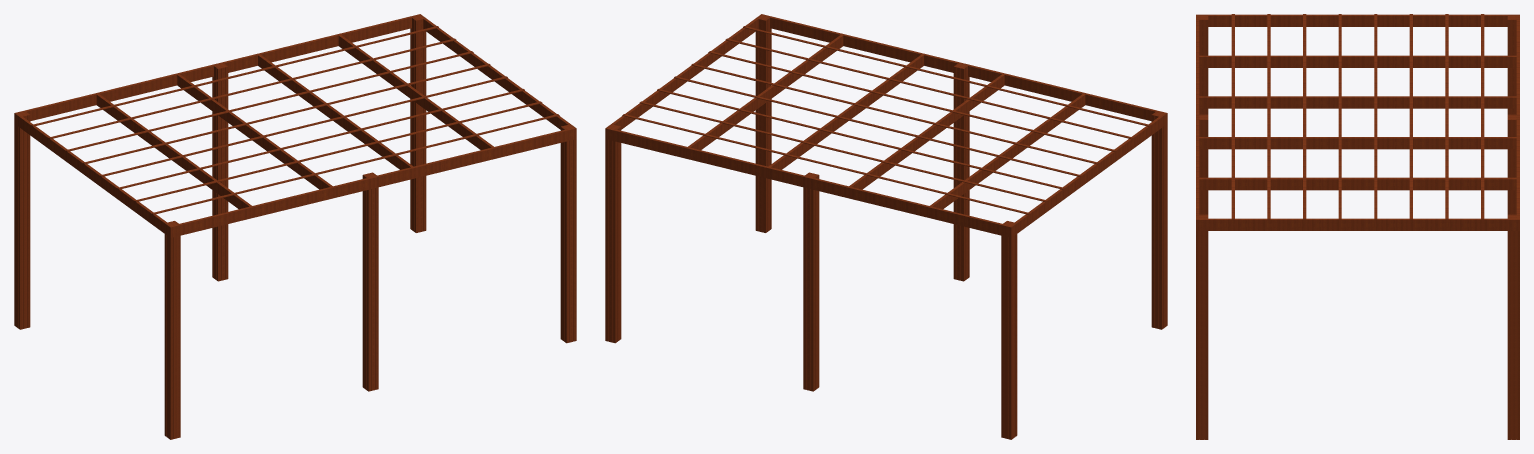
File: 00_Wood Pergola-4x6-Mordern-M0724.gltf
The picture shows the model from 3 angles, left to right: view 1: azimuth 30°, elevation 25°; view 2: azimuth 150°, elevation 25°; view 3: azimuth 270°, elevation 25°; orthographic projection. The views are drawn at different scales.
Visible parts, largest first — view 1: Generic_Models_Post-15x15x4-Hollow_Wood_Pergola_Post_3000mm_ (×6), Generic_Models_Beam-15x4-Solid_Wood_Pergola_Beam-4000mm_-_D0 (×6), Generic_Models_Beam-15x4-Solid_Wood_Pergola_Beam-6000mm_-_D0 (×2), Generic_Models_Purlin-1x4-Solid_Wood_Pergola_Purlin-6000mm_- (×8); view 2: Generic_Models_Post-15x15x4-Hollow_Wood_Pergola_Post_3000mm_ (×6), Generic_Models_Beam-15x4-Solid_Wood_Pergola_Beam-4000mm_-_D0 (×6), Generic_Models_Beam-15x4-Solid_Wood_Pergola_Beam-6000mm_-_D0 (×2), Generic_Models_Purlin-1x4-Solid_Wood_Pergola_Purlin-6000mm_- (×8); view 3: Generic_Models_Beam-15x4-Solid_Wood_Pergola_Beam-4000mm_-_D0 (×6), Generic_Models_Post-15x15x4-Hollow_Wood_Pergola_Post_3000mm_ (×6), Generic_Models_Purlin-1x4-Solid_Wood_Pergola_Purlin-6000mm_- (×8), Generic_Models_Beam-15x4-Solid_Wood_Pergola_Beam-6000mm_-_D0 (×2).
Part boxes in pixels (box(x1,y1,x2,y2)): Generic_Models_Post-15x15x4-Hollow_Wood_Pergola_Post_3000mm_ (×6): box(14, 14, 576, 439); Generic_Models_Beam-15x4-Solid_Wood_Pergola_Beam-4000mm_-_D0 (×6): box(16, 18, 576, 237); Generic_Models_Beam-15x4-Solid_Wood_Pergola_Beam-6000mm_-_D0 (×2): box(14, 14, 573, 237); Generic_Models_Purlin-1x4-Solid_Wood_Pergola_Purlin-6000mm_- (×8): box(31, 26, 559, 214); Generic_Models_Post-15x15x4-Hollow_Wood_Pergola_Post_3000mm_ (×6): box(605, 14, 1167, 439); Generic_Models_Beam-15x4-Solid_Wood_Pergola_Beam-4000mm_-_D0 (×6): box(605, 15, 1167, 237); Generic_Models_Beam-15x4-Solid_Wood_Pergola_Beam-6000mm_-_D0 (×2): box(608, 15, 1166, 237); Generic_Models_Purlin-1x4-Solid_Wood_Pergola_Purlin-6000mm_- (×8): box(622, 26, 1150, 214); Generic_Models_Beam-15x4-Solid_Wood_Pergola_Beam-4000mm_-_D0 (×6): box(1196, 14, 1519, 230); Generic_Models_Post-15x15x4-Hollow_Wood_Pergola_Post_3000mm_ (×6): box(1196, 14, 1519, 439); Generic_Models_Purlin-1x4-Solid_Wood_Pergola_Purlin-6000mm_- (×8): box(1231, 14, 1484, 219); Generic_Models_Beam-15x4-Solid_Wood_Pergola_Beam-6000mm_-_D0 (×2): box(1196, 16, 1519, 230).
Bounding box in the file's own units: 6 × 3.01 × 4.
Materials: 1 (1 with a texture image).
